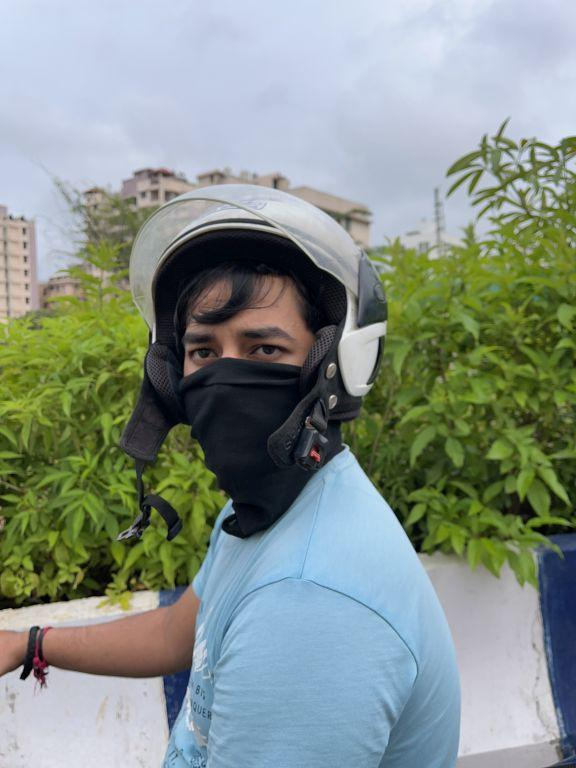helmet: (119, 174, 398, 430)
